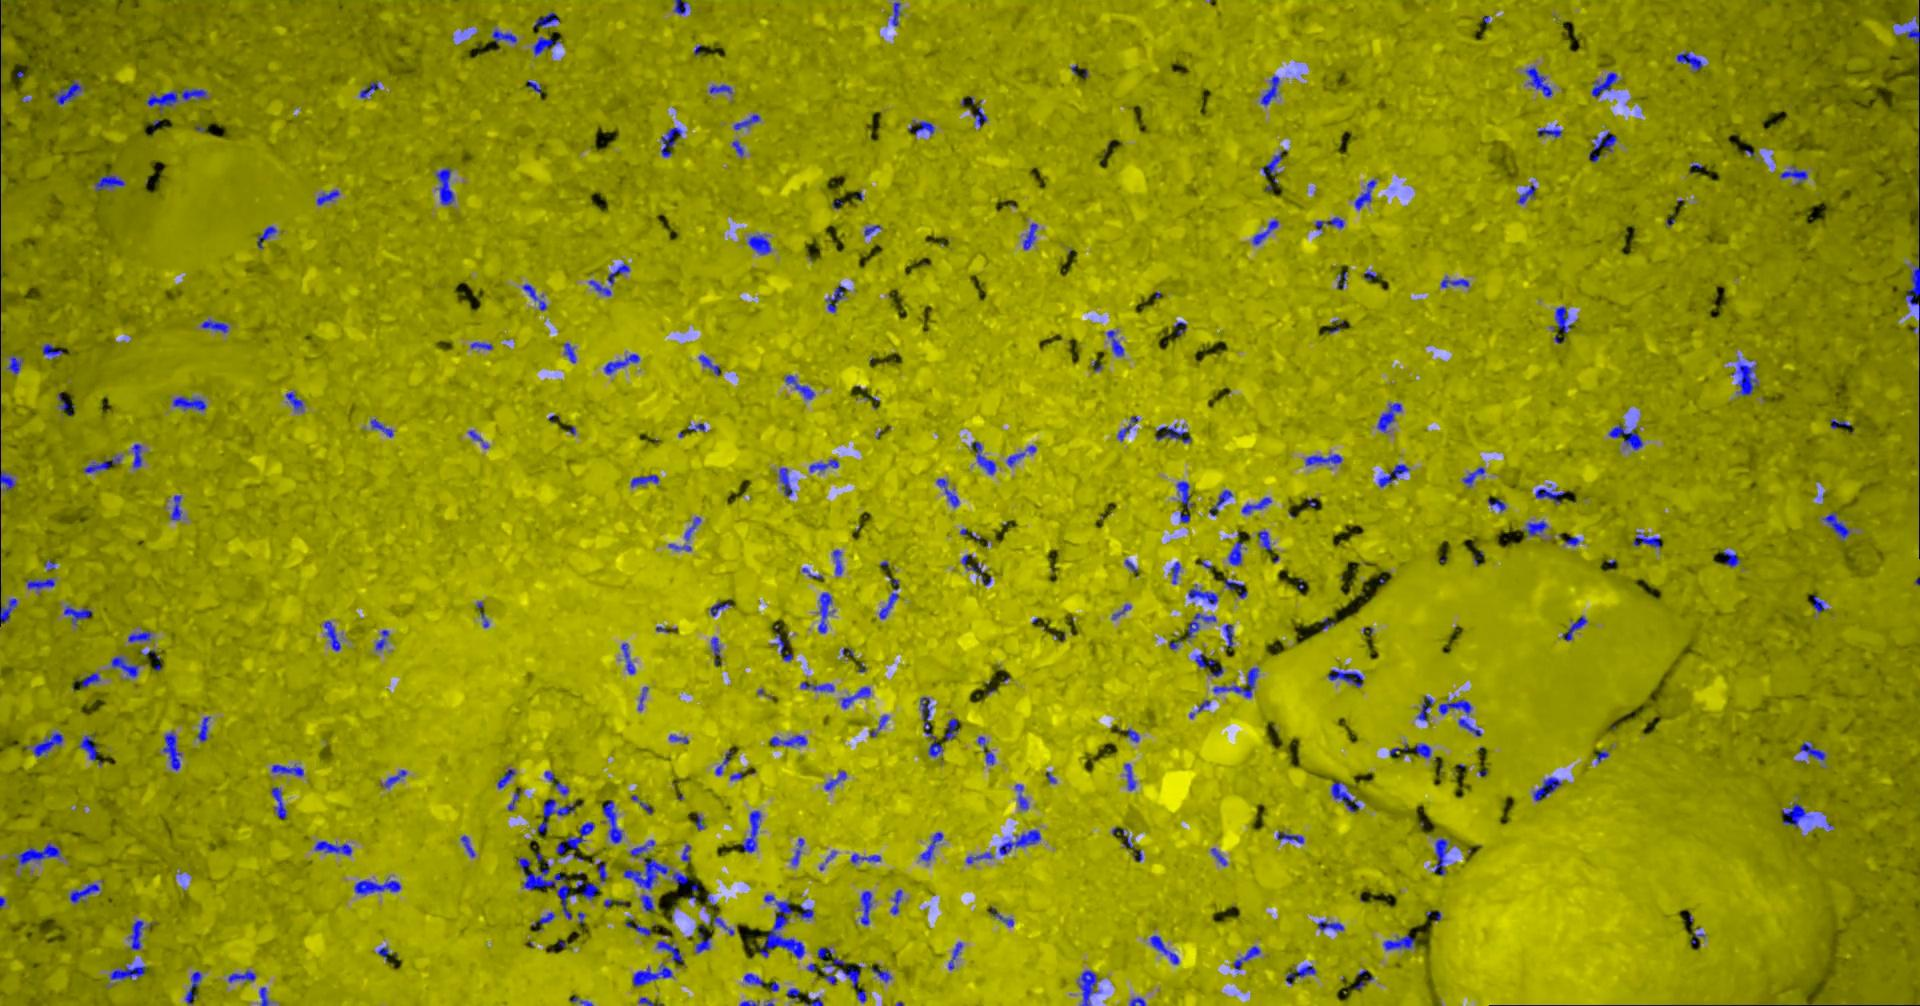ant: (519, 857, 577, 920), (761, 894, 806, 958), (625, 857, 669, 889), (1214, 667, 1260, 697), (149, 88, 208, 111), (921, 696, 943, 756), (538, 798, 577, 832), (557, 822, 596, 856), (825, 956, 863, 987), (17, 842, 62, 865), (999, 829, 1043, 854), (1735, 357, 1760, 395), (963, 554, 993, 586), (634, 963, 674, 986), (1590, 131, 1618, 163), (880, 575, 900, 619), (1332, 781, 1361, 810), (1150, 935, 1180, 964), (1526, 66, 1554, 97), (604, 799, 623, 843), (971, 441, 997, 474), (1610, 424, 1644, 448), (1782, 801, 1813, 827), (743, 810, 762, 852), (1823, 511, 1851, 539), (356, 878, 403, 894), (786, 373, 817, 399), (1378, 401, 1403, 432), (1079, 969, 1101, 1005), (1906, 264, 1920, 319), (164, 730, 183, 770), (604, 353, 641, 373), (53, 79, 83, 104), (34, 732, 63, 756), (1534, 776, 1563, 800), (1380, 464, 1411, 486), (1907, 9, 1920, 64), (1592, 71, 1619, 97), (437, 166, 455, 205), (1157, 423, 1192, 442), (1189, 614, 1217, 638), (1234, 945, 1262, 969), (819, 592, 836, 633), (921, 832, 943, 861), (1356, 179, 1378, 210), (776, 624, 794, 661), (1255, 218, 1280, 244), (524, 283, 549, 310), (1330, 669, 1365, 687), (662, 127, 683, 156), (1008, 445, 1037, 466), (938, 478, 960, 507), (843, 686, 872, 708), (71, 883, 102, 903), (1564, 615, 1589, 640), (546, 770, 570, 795), (185, 970, 203, 1005), (85, 456, 122, 473), (1263, 151, 1283, 183), (827, 285, 848, 312), (1537, 483, 1566, 503), (1190, 584, 1219, 605), (1262, 75, 1281, 105), (1211, 489, 1234, 514), (113, 655, 140, 677), (658, 940, 684, 962), (535, 36, 563, 56), (1435, 838, 1450, 875), (316, 840, 353, 855), (65, 605, 94, 624), (1288, 965, 1317, 984), (493, 28, 518, 50), (1119, 415, 1140, 441), (1124, 835, 1144, 861), (272, 786, 288, 818), (80, 735, 102, 760), (27, 577, 56, 594), (1553, 306, 1573, 332), (110, 965, 147, 979), (1677, 52, 1704, 71), (325, 620, 342, 650), (1440, 699, 1473, 714), (1384, 934, 1415, 950), (1782, 165, 1810, 183), (1225, 578, 1250, 598), (711, 915, 735, 935), (622, 643, 637, 674), (382, 768, 408, 788), (97, 174, 126, 191), (1243, 497, 1272, 513), (131, 920, 147, 949), (1801, 742, 1827, 760), (626, 918, 653, 936), (610, 263, 631, 285), (749, 234, 772, 254), (577, 879, 599, 899), (174, 396, 207, 410), (1634, 531, 1662, 547), (979, 735, 996, 763), (990, 907, 1015, 926), (716, 749, 734, 775), (735, 113, 762, 130), (700, 354, 721, 375), (1464, 466, 1486, 486), (259, 225, 278, 248), (372, 418, 395, 437), (1305, 453, 1343, 465), (825, 770, 848, 789), (1229, 541, 1247, 565), (532, 912, 556, 930), (1178, 480, 1194, 508), (1109, 330, 1125, 356), (1418, 695, 1435, 720), (871, 714, 890, 735), (632, 794, 654, 813), (535, 11, 561, 27), (58, 391, 76, 414), (1460, 718, 1483, 735), (697, 925, 712, 951), (949, 942, 964, 969), (273, 763, 305, 776), (686, 516, 702, 540), (1, 598, 18, 622), (77, 672, 102, 688), (632, 840, 657, 856), (202, 318, 230, 332), (780, 467, 794, 495), (792, 837, 806, 865), (973, 100, 988, 126), (1023, 224, 1039, 249), (771, 735, 808, 746), (909, 119, 936, 133), (1016, 782, 1030, 809), (1316, 216, 1345, 229), (811, 459, 841, 471), (317, 189, 342, 205), (1525, 520, 1549, 535), (1519, 184, 1538, 203), (287, 391, 305, 412), (632, 474, 660, 486), (1277, 831, 1305, 843), (801, 681, 836, 691), (862, 890, 872, 925), (499, 768, 517, 788), (198, 716, 212, 741), (590, 279, 612, 295), (711, 600, 733, 615), (945, 718, 960, 739), (891, 889, 904, 915), (1443, 276, 1470, 287), (509, 788, 523, 810), (462, 835, 476, 857), (229, 970, 257, 982), (1211, 847, 1229, 865), (43, 343, 63, 358), (1, 470, 17, 490), (1196, 653, 1217, 668), (872, 967, 893, 982), (1539, 124, 1563, 137), (1125, 763, 1137, 790), (361, 81, 380, 97), (8, 354, 23, 373), (712, 636, 723, 664), (968, 852, 996, 862), (171, 495, 183, 520), (377, 629, 390, 650), (834, 549, 844, 575), (1225, 624, 1236, 650), (852, 854, 883, 862), (797, 904, 815, 920), (130, 630, 152, 641), (1260, 530, 1272, 550), (1319, 920, 1345, 930), (1724, 551, 1741, 567), (641, 894, 657, 911), (133, 443, 143, 467), (745, 973, 764, 986), (565, 342, 577, 362), (893, 0, 902, 25), (1172, 561, 1182, 583), (598, 860, 608, 882), (1417, 743, 1432, 757), (1490, 499, 1507, 511), (1815, 594, 1826, 612), (676, 0, 690, 14), (1175, 321, 1189, 335), (1128, 728, 1142, 742), (674, 871, 690, 884), (640, 997, 665, 1005), (711, 84, 733, 93), (472, 340, 494, 349), (806, 995, 824, 1005), (789, 987, 801, 1001), (683, 843, 692, 862), (262, 986, 270, 1005), (819, 946, 833, 958), (1130, 997, 1147, 1005)
